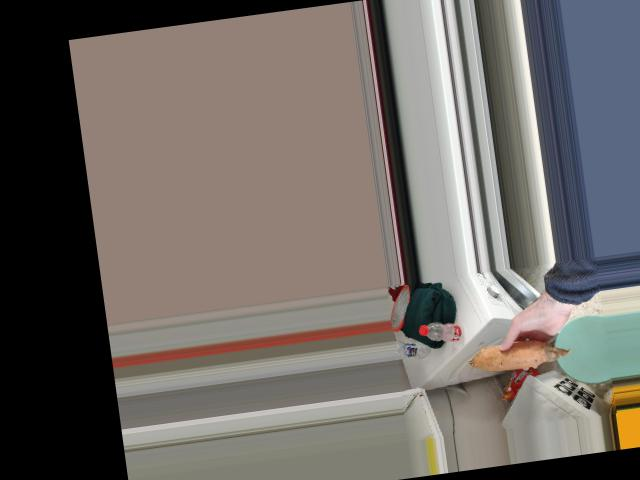sweet_potato: (470, 338, 559, 373)
